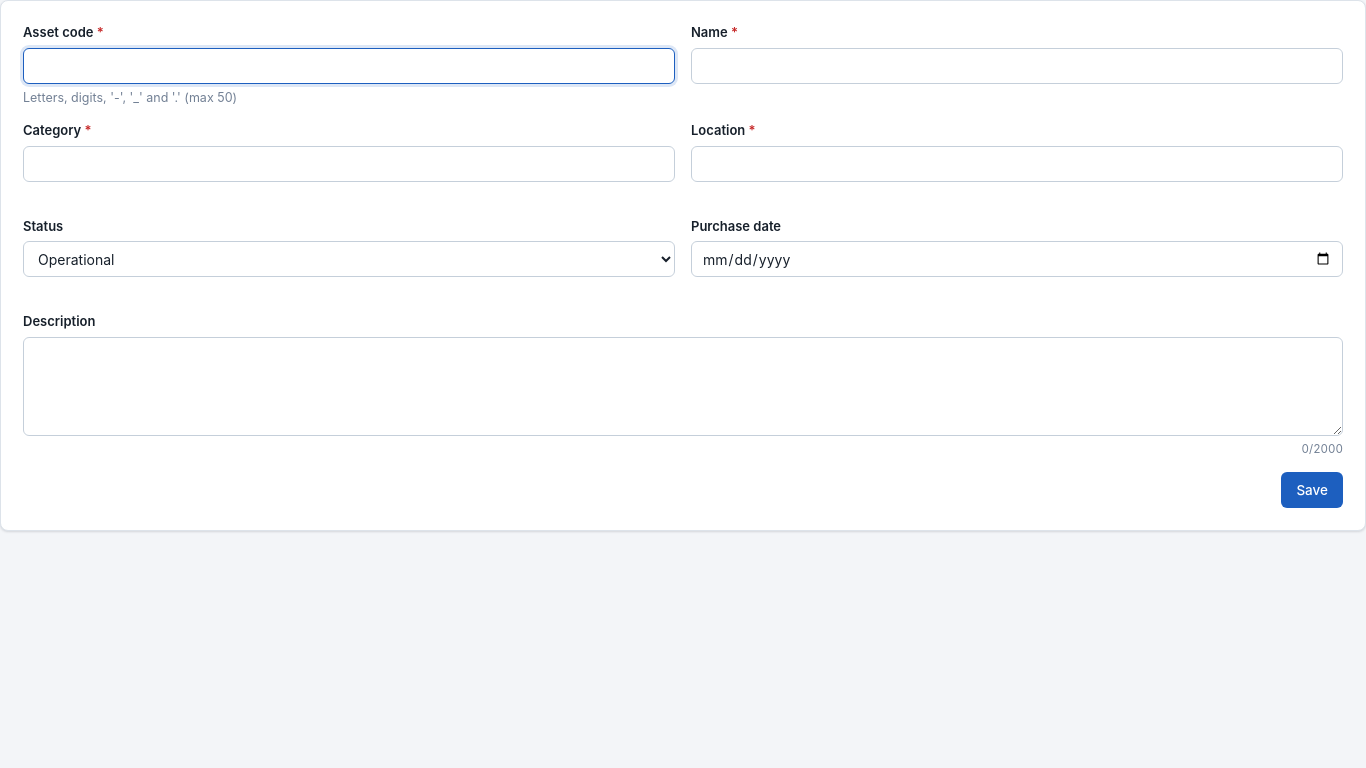
AssetForm › maps server 400 field errors (PascalCase keys) onto the matching fields
Step 1. Type "PMP-100" into the field labelled "Asset code *" → {"x": 349, "y": 66}, box [23,48,675,84]
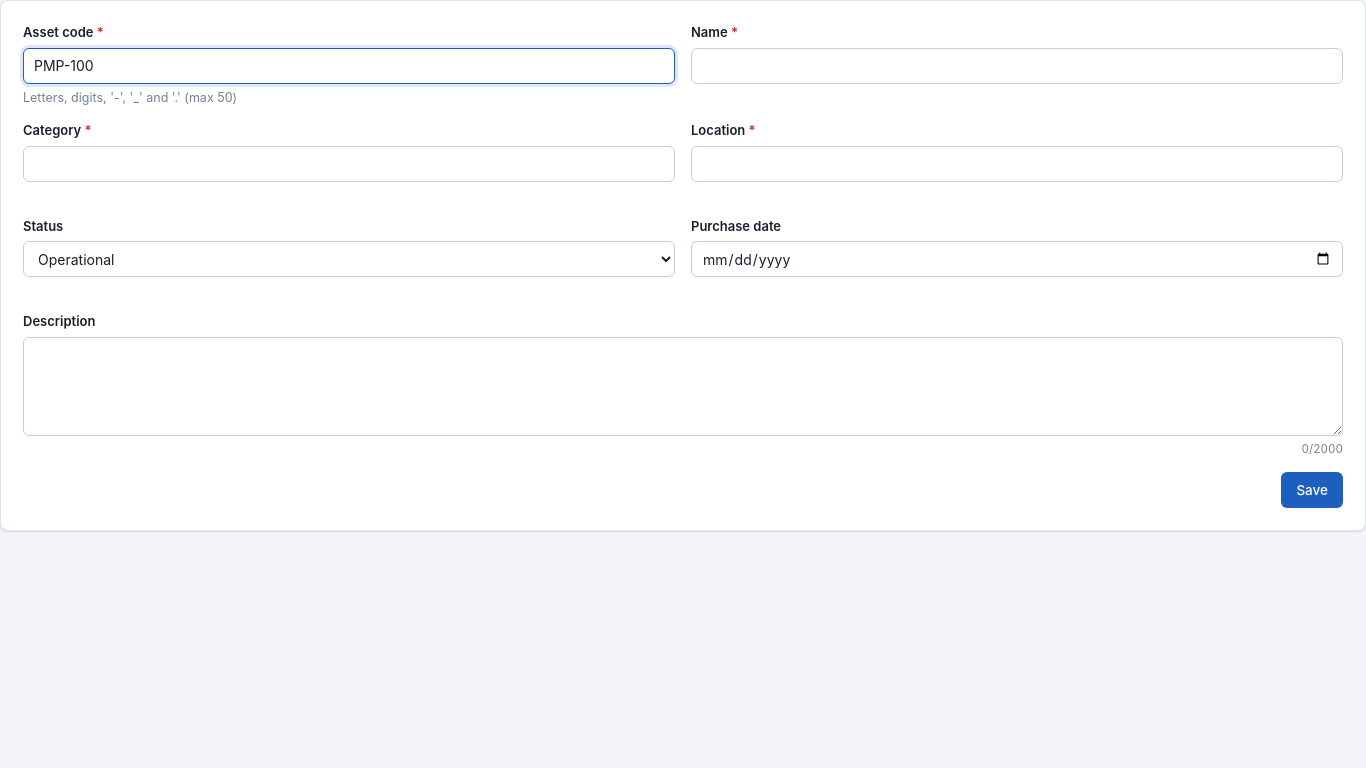
Step 2. Type "Feed Pump" into the field labelled "Name *" → {"x": 1017, "y": 66}, box [691,48,1343,84]
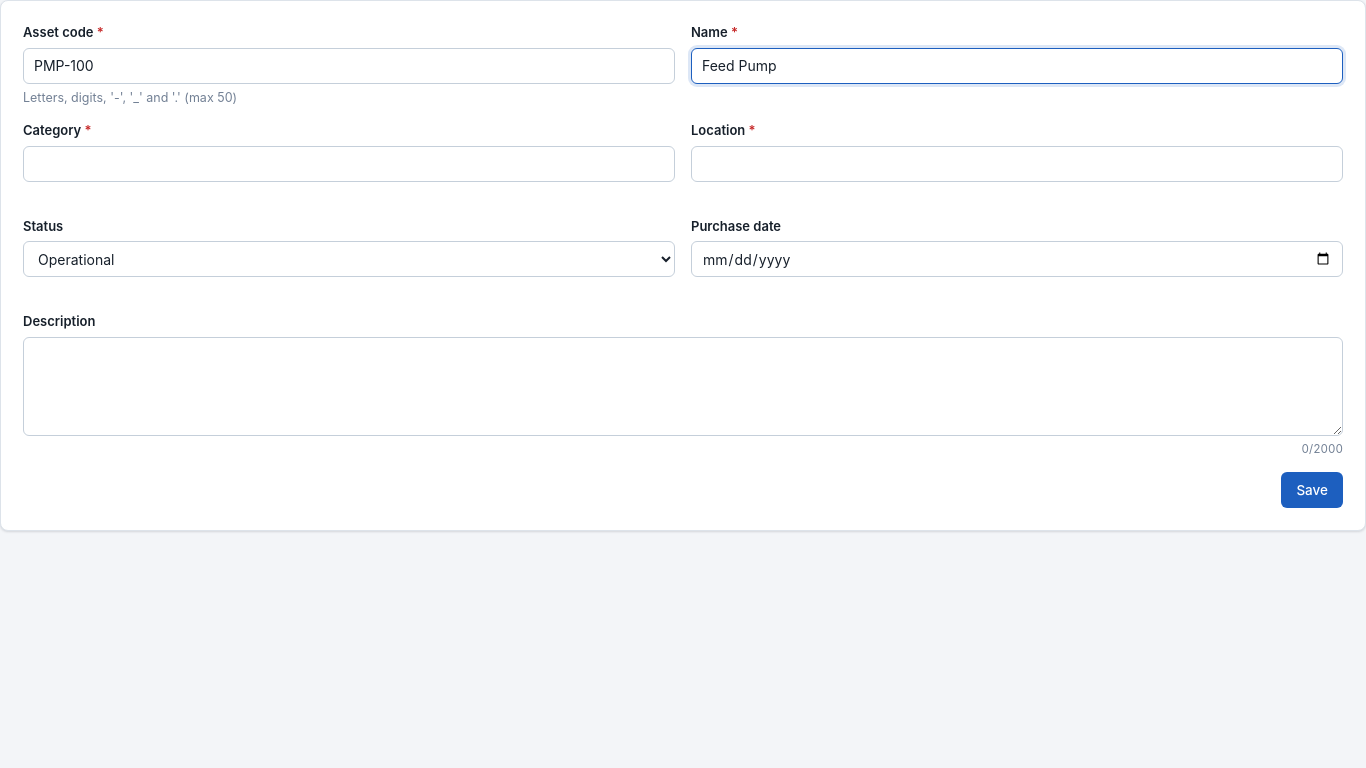
Step 3. Type "Pump" into the field labelled "Category *" → {"x": 349, "y": 164}, box [23,146,675,182]
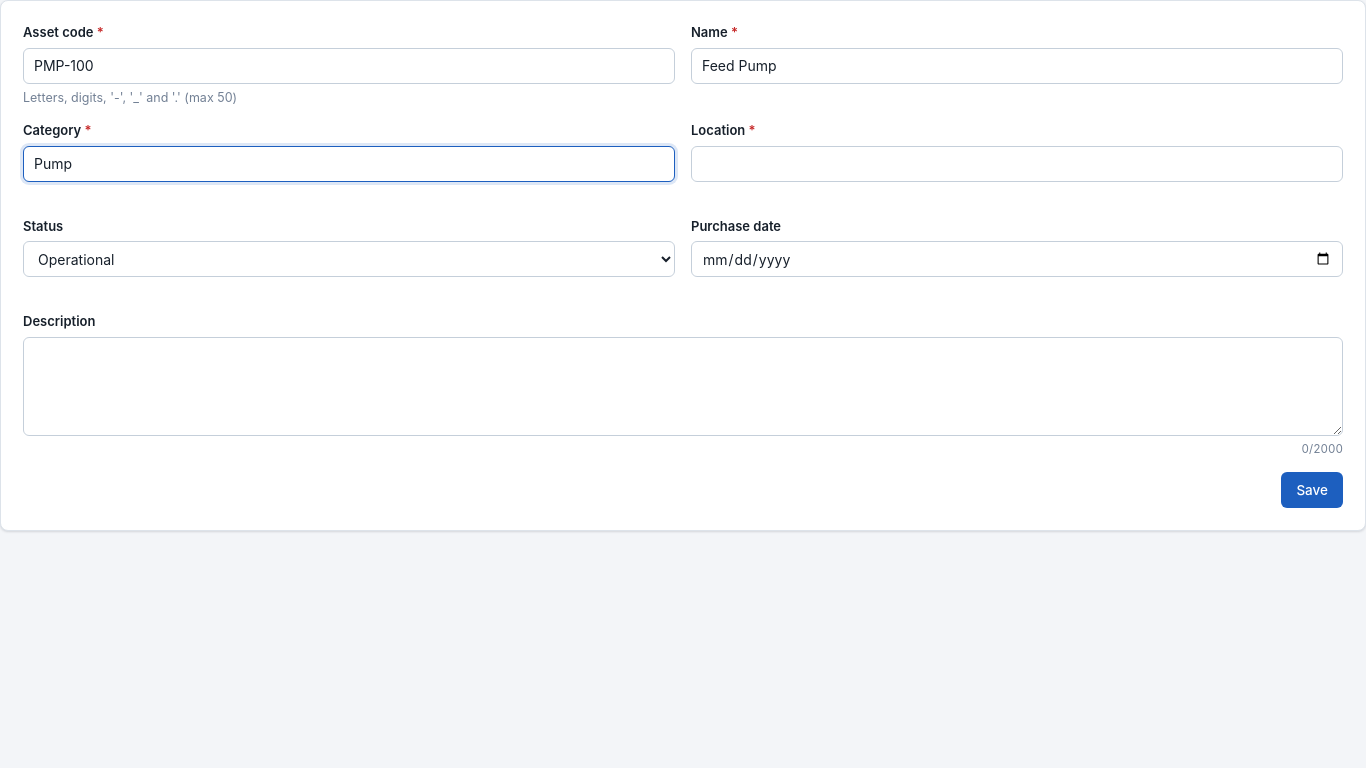
Step 4. Type "Plant A / Line 1" into the field labelled "Location *" → {"x": 1017, "y": 164}, box [691,146,1343,182]
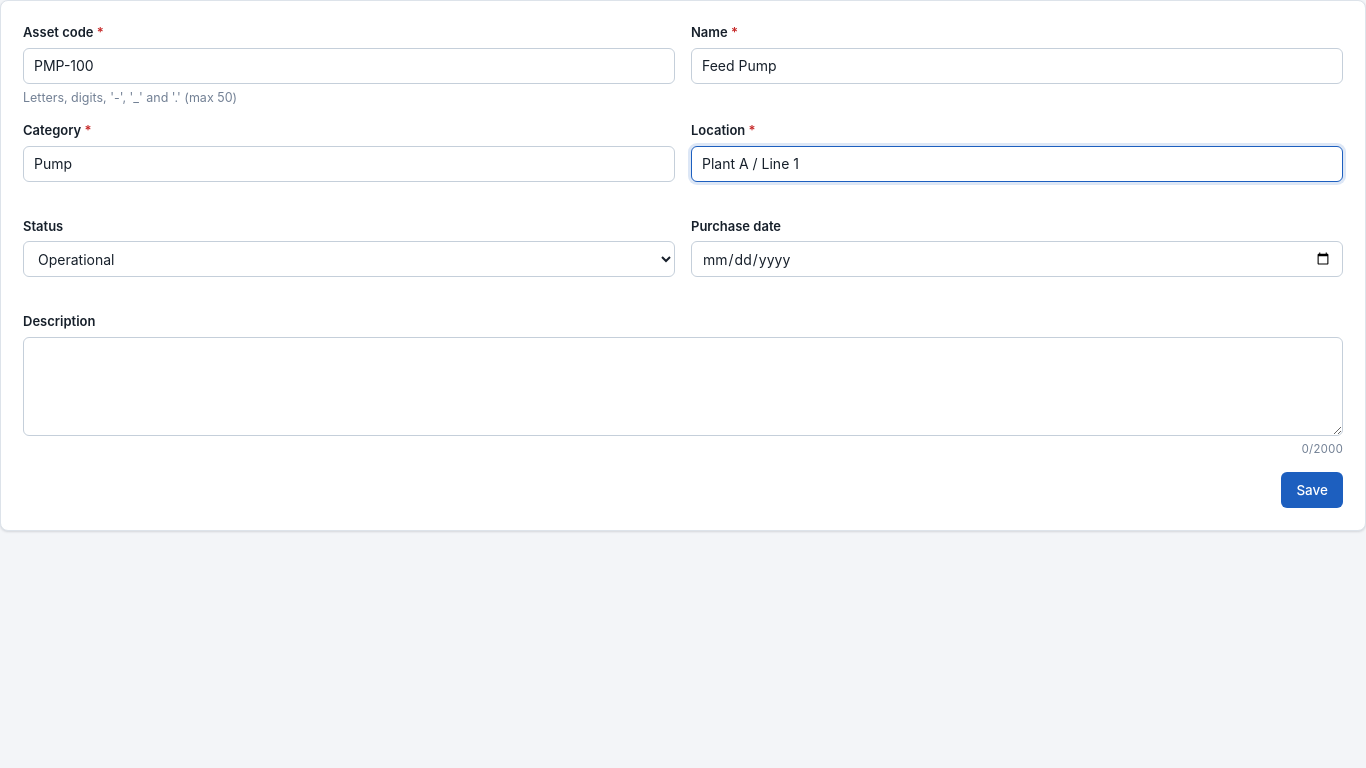
Step 5. Click the button "Save" → {"x": 1312, "y": 490}, box [1281,472,1343,508]
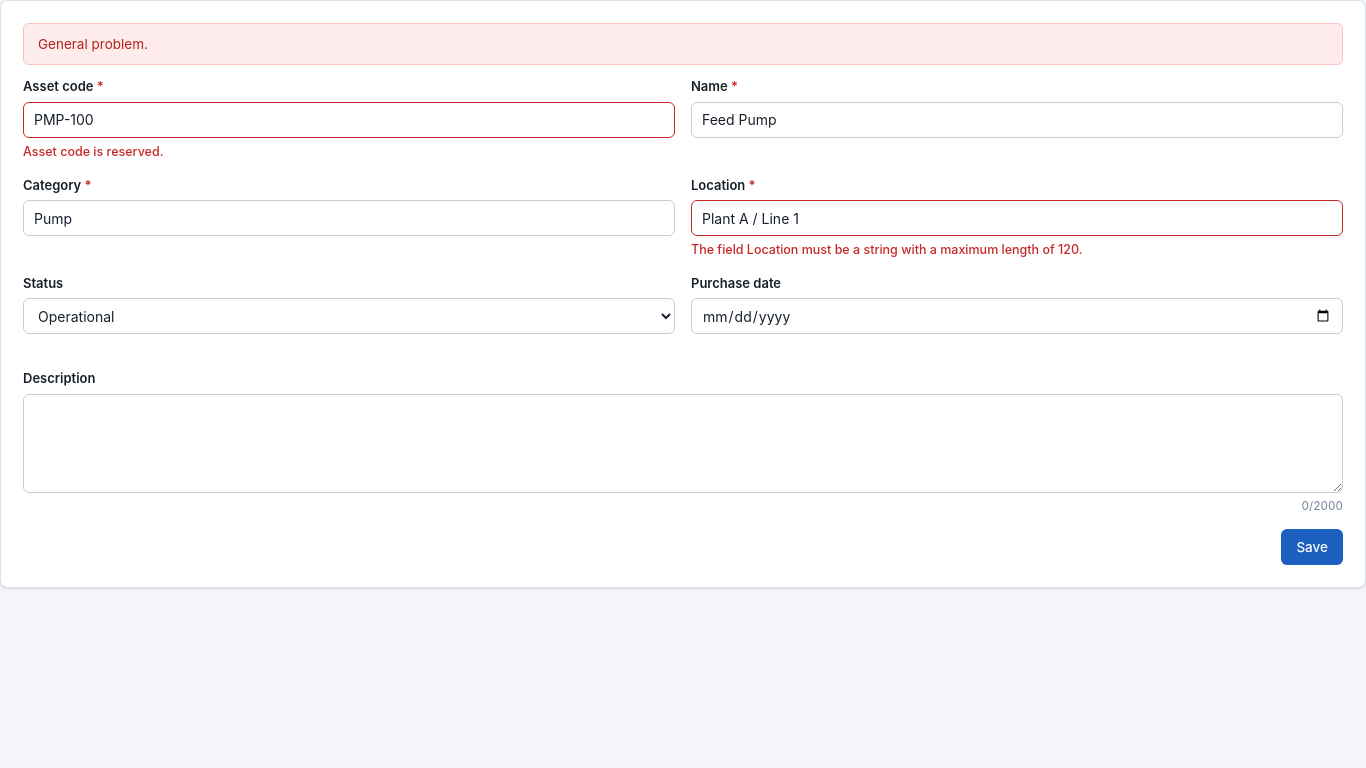
Expected: the text "Asset code is reserved." is shown, [23,143,163,162]
Expected: the message reads "General problem.", [38,36,148,52]
